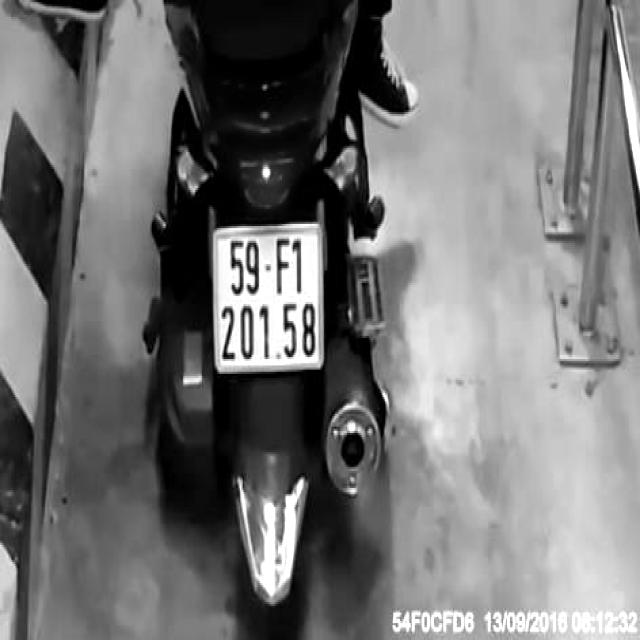license_plate: (208, 232, 326, 372)
